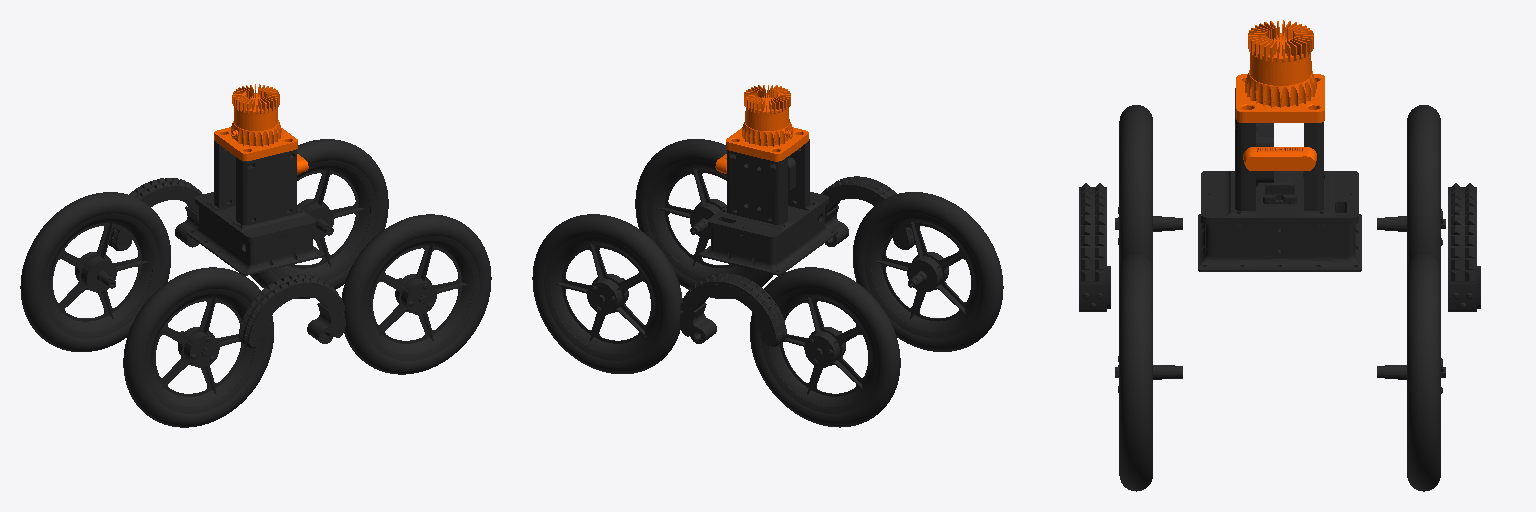
URDF robot description (espeleo):
<?xml version="1.0" ?>

<robot name="espeleo" xmlns:xacro="http://www.ros.org/wiki/xacro">


  <material name="black">
    <color rgba="0.0 0.0 0.0 1.0"/>
  </material>
  <material name="blue">
    <color rgba="0.0 0.0 0.8 1.0"/>
  </material>
  <material name="green">
    <color rgba="0.0 0.8 0.0 1.0"/>
  </material>
  <material name="grey">
    <color rgba="0.2 0.2 0.2 1.0"/>
  </material>
  <material name="orange">
    <color rgba="1.0 0.423529411765 0.0392156862745 1.0"/>
  </material>
  <material name="brown">
    <color rgba="0.870588235294 0.811764705882 0.764705882353 1.0"/>
  </material>
  <material name="red">
    <color rgba="0.8 0.0 0.0 1.0"/>
  </material>
  <material name="white">
    <color rgba="1.0 1.0 1.0 1.0"/>
  </material>


  <link name="base_link"/>
  <joint name="base_joint" type="fixed">
    <axis xyz="0 0 0"/>
    <origin rpy="0 0 0" xyz="0 0 .15 "/>
    <parent link="base_link"/>
    <child link="chassis"/>
  </joint>


  <link name="chassis">
    <collision>
      <origin rpy="0 0 0" xyz="0 0 0"/>
      <geometry>
        <box size="0.54 0.27 0.145"/>
      </geometry>
    </collision>
    <visual>
      <origin rpy="-1.57079632679 0 0" xyz="-0.283 -0.23 0.0725"/>
      <geometry>
        <mesh filename="package://espeleo_description/urdf/stl/Espeleo-22.STL" scale="0.001 0.001 0.001"/>
      </geometry>
      <material name="white"/>
    </visual>
    <inertial>
      <origin rpy="0 0 0" xyz="0 0 0.15"/>
      <mass value="0.5"/>
      <inertia ixx="0.01215" ixy="0" ixz="0" iyy="0.0030375" iyz="0" izz="0.0151875"/>
    </inertial>
  </link>



  <link name="left_front_wheel">
    <collision>
      <origin rpy="1.57079632679 0 0" xyz="0 0 0"/>
      <geometry>
        <cylinder length="0.043" radius="0.14"/>
      </geometry>
    </collision>
    <visual>
      <origin rpy="0 0 0" xyz="0 0 0"/>
      <geometry>
        <mesh filename="package://espeleo_description/urdf/stl/roda_esquerda.stl"/>
      </geometry>
      <material name="grey"/>
    </visual>
    <inertial>
      <origin rpy="1.57079632679 0 0 " xyz="0 0 0"/>
      <mass value="0.2"/>
      <inertia ixx="0.00101081666667" ixy="0" ixz="0" iyy="0.00101081666667" iyz="0" izz="0.00196"/>
    </inertial>
  </link>
  
  <joint name="left_front_wheel_joint" type="revolute">
    <parent link="chassis"/>
    <child link="left_front_wheel"/>
    <origin rpy="0 0 0" xyz="0.215 0.175 -0.01"/>
    <axis rpy="0 0 0" xyz="0 1 0"/>
    <limit command_effort="100" current="10" effort="80" gear_velocity="10" lower="-9.42" upper="9.42" velocity="15"/>   
    <joint_properties damping="0.0" friction="0.0"/>
  </joint>
  <transmission name="left_front_trans">
    <type>transmission_interface/SimpleTransmission</type>
    <joint name="left_front_wheel_joint">
      <hardwareInterface>EffortJointInterface</hardwareInterface>
    </joint>
    <actuator name="left_frontMotor">
      <hardwareInterface>EffortJointInterface</hardwareInterface>
      <mechanicalReduction>10</mechanicalReduction>
    </actuator>
  </transmission>


  <link name="left_middle_wheel">
    <collision>
      <origin rpy="3.1415 0 0" xyz="-0.05 0.02 0.02"/>
      <geometry>
        <mesh filename="package://espeleo_description/urdf/stl/leg_2.STL" scale="0.001 0.001 0.001"/>
        <!--<cylinder length="${wheelWidth}" radius="${wheelRadius}"/>-->
      </geometry>
    </collision>
    <visual>
      <origin rpy="3.1415 0 0" xyz="-0.05 0.02 0.02"/>
      <geometry>
        <mesh filename="package://espeleo_description/urdf/stl/leg_2.STL" scale="0.001 0.001 0.001"/>
      </geometry>
      <material name="grey"/>
    </visual>
    <inertial>
      <origin rpy="0 0 0" xyz="0 0 0"/>
      <mass value="0.2"/>
      <inertia ixx="0.00101081666667" ixy="0" ixz="0" iyy="0.00101081666667" iyz="0" izz="0.00196"/>
    </inertial>
  </link>
  
  <joint name="left_middle_wheel_joint" type="revolute">
    <parent link="chassis"/>
    <child link="left_middle_wheel"/>
    <origin rpy="3.1415 0 3.1415" xyz="0.0 0.225 -0.01"/>
    <axis rpy="0 0 0" xyz="0 1 0"/>
    <limit effort="100" lower="-3.14" upper="3.14" velocity="100"/>
    <joint_properties damping="0.0" friction="0.0"/>
  </joint>
  <transmission name="left_middle_trans">
    <type>transmission_interface/SimpleTransmission</type>
    <joint name="left_middle_wheel_joint">
      <hardwareInterface>EffortJointInterface</hardwareInterface>
    </joint>
    <actuator name="left_middleMotor">
      <hardwareInterface>EffortJointInterface</hardwareInterface>
      <mechanicalReduction>10</mechanicalReduction>
    </actuator>
  </transmission>



  <link name="left_back_wheel">
    <collision>
      <origin rpy="1.57079632679 0 0" xyz="0 0 0"/>
      <geometry>
        <cylinder length="0.043" radius="0.14"/>
      </geometry>
    </collision>
    <visual>
      <origin rpy="0 0 0" xyz="0 0 0"/>
      <geometry>
        <mesh filename="package://espeleo_description/urdf/stl/roda_esquerda.stl"/>
      </geometry>
      <material name="grey"/>
    </visual>
    <inertial>
      <origin rpy="1.57079632679 0 0 " xyz="0 0 0"/>
      <mass value="0.2"/>
      <inertia ixx="0.00101081666667" ixy="0" ixz="0" iyy="0.00101081666667" iyz="0" izz="0.00196"/>
    </inertial>
  </link>
  
  <joint name="left_back_wheel_joint" type="revolute">
    <parent link="chassis"/>
    <child link="left_back_wheel"/>
    <origin rpy="0 0 0" xyz="-0.212 0.175 -0.01"/>
    <axis rpy="0 0 0" xyz="0 1 0"/>
    <limit command_effort="100" current="10" effort="80" gear_velocity="10" lower="-9.42" upper="9.42" velocity="15"/> 
    <joint_properties damping="0.0" friction="0.0"/>
  </joint>
  <transmission name="left_back_trans">
    <type>transmission_interface/SimpleTransmission</type>
    <joint name="left_back_wheel_joint">
      <hardwareInterface>EffortJointInterface</hardwareInterface>
    </joint>
    <actuator name="left_backMotor">
      <hardwareInterface>EffortJointInterface</hardwareInterface>
      <mechanicalReduction>10</mechanicalReduction>
    </actuator>
  </transmission>


  <link name="right_front_wheel">
    <collision>
      <origin rpy="1.57079632679 0 0" xyz="0 0 0"/>
      <geometry>
        <cylinder length="0.043" radius="0.14"/>
      </geometry>
    </collision>
    <visual>
      <origin rpy="3.1415 0 3.14159265359" xyz="0 0 0"/>
      <geometry>
        <mesh filename="package://espeleo_description/urdf/stl/roda_esquerda.stl"/>
      </geometry>
      <material name="grey"/>
    </visual>
    <inertial>
      <origin rpy="1.57079632679 0 0 " xyz="0 0 0"/>
      <mass value="0.2"/>
      <inertia ixx="0.00101081666667" ixy="0" ixz="0" iyy="0.00101081666667" iyz="0" izz="0.00196"/>
    </inertial>
  </link>
  
  <joint name="right_front_wheel_joint" type="revolute">
    <parent link="chassis"/>
    <child link="right_front_wheel"/>
    <origin rpy="0 0 3.1415" xyz="0.215 -0.175 -0.01"/>
    <axis rpy="0 0 0" xyz="0 1 0"/>
    <limit command_effort="100" current="10" effort="80" gear_velocity="10" lower="-9.42" upper="9.42" velocity="15"/> 
    <joint_properties damping="0.0" friction="0.0"/>
  </joint>
  <transmission name="right_front_trans">
    <type>transmission_interface/SimpleTransmission</type>
    <joint name="right_front_wheel_joint">
      <hardwareInterface>EffortJointInterface</hardwareInterface>
    </joint>
    <actuator name="right_frontMotor">
      <hardwareInterface>EffortJointInterface</hardwareInterface>
      <mechanicalReduction>10</mechanicalReduction>
    </actuator>
  </transmission>
  
  <link name="right_middle_wheel">
    <collision>
      <origin rpy="0 0 0" xyz="-0.05 -0.02 -0.02"/>
      <geometry>
        <mesh filename="package://espeleo_description/urdf/stl/leg_2.STL" scale="0.001 0.001 0.001"/>
        <!--<cylinder length="${wheelWidth}" radius="${wheelRadius}"/>-->
      </geometry>
    </collision>
    <visual>
      <origin rpy="0 0 0" xyz="-0.05 -0.02 -0.02"/>
      <geometry>
        <mesh filename="package://espeleo_description/urdf/stl/leg_2.STL" scale="0.001 0.001 0.001"/>
      </geometry>
      <material name="grey"/>
    </visual>
    <inertial>
      <origin rpy="0 0 0" xyz="0 0 0"/>
      <mass value="0.2"/>
      <inertia ixx="0.00101081666667" ixy="0" ixz="0" iyy="0.00101081666667" iyz="0" izz="0.00196"/>
    </inertial>
  </link>

    <joint name="right_middle_wheel_joint" type="revolute">
    <parent link="chassis"/>
    <child link="right_middle_wheel"/>
    <origin rpy="0 0 3.1415" xyz="0.0 -0.225 -0.01"/>
    <axis rpy="0 0 0" xyz="0 1 0"/>
    <limit effort="100" lower="-3.14" upper="3.14" velocity="100"/>
    <joint_properties damping="0.0" friction="0.0"/>
  </joint>
  <transmission name="right_middle_trans">
    <type>transmission_interface/SimpleTransmission</type>
    <joint name="right_middle_wheel_joint">
      <hardwareInterface>EffortJointInterface</hardwareInterface>
    </joint>
    <actuator name="right_middleMotor">
      <hardwareInterface>EffortJointInterface</hardwareInterface>
      <mechanicalReduction>10</mechanicalReduction>
    </actuator>
  </transmission>



  <link name="right_back_wheel">
    <collision>
      <origin rpy="1.57079632679 0 0" xyz="0 0 0"/>
      <geometry>
        <cylinder length="0.043" radius="0.14"/>
      </geometry>
    </collision>
    <visual>
      <origin rpy="3.1415 0 3.14159265359" xyz="0 0 0"/>
      <geometry>
        <mesh filename="package://espeleo_description/urdf/stl/roda_esquerda.stl"/>
      </geometry>
      <material name="grey"/>
    </visual>
    <inertial>
      <origin rpy="1.57079632679 0 0 " xyz="0 0 0"/>
      <mass value="0.2"/>
      <inertia ixx="0.00101081666667" ixy="0" ixz="0" iyy="0.00101081666667" iyz="0" izz="0.00196"/>
    </inertial>
  </link>
  
  <joint name="right_back_wheel_joint" type="revolute">
    <parent link="chassis"/>
    <child link="right_back_wheel"/>
    <origin rpy="0 0 3.1415" xyz="-0.212 -0.175 -0.01"/>
    <axis rpy="0 0 0" xyz="0 1 0"/>
    <limit command_effort="100" current="10" effort="80" gear_velocity="10" lower="-9.42" upper="9.42" velocity="15"/> 
    <joint_properties damping="0.0" friction="0.0"/>
  </joint>
  <transmission name="right_back_trans">
    <type>transmission_interface/SimpleTransmission</type>
    <joint name="right_back_wheel_joint">
      <hardwareInterface>EffortJointInterface</hardwareInterface>
    </joint>
    <actuator name="right_backMotor">
      <hardwareInterface>EffortJointInterface</hardwareInterface>
      <mechanicalReduction>10</mechanicalReduction>
    </actuator>
  </transmission>

  <!-- sensor_tower -->
  <joint name="sensor_tower_joint" type="fixed">
    <axis xyz="0 1 0"/>
    <origin rpy="0 0 0" xyz=".0 .0 .055 "/>
    <parent link="chassis"/>
    <child link="sensor_tower"/>
  </joint>
  <link name="sensor_tower">
    <collision>
      <origin rpy="0 0 0" xyz="0 0 0.109"/>
      <geometry>
        <box size="0.19 0.19 0.18"/>
      </geometry>
    </collision>
    <visual>
      <origin rpy="1.57079632679 0 0" xyz="-0.08 0.2 0"/>
      <geometry>
        <mesh filename="package://espeleo_description/urdf/stl/Torre.STL" scale="0.001 0.001 0.001"/>
      </geometry>
    <material name="grey"/>
    </visual>
    <inertial>
      <mass value="2"/>
      <origin rpy="0 0 0" xyz="0 0 0"/>
      <inertia ixx="1e-6" ixy="0" ixz="0" iyy="1e-6" iyz="0" izz="1e-6"/>
    </inertial>
  </link>

  <!-- Caso necessite utilizar a TF da IMU na torre altere o parent link para (<parent link="chassis"/>) e utilize as seguintes coordenadas de origin (<origin rpy="0 0 0" xyz="-0.025 -0.015 .087"/>) -->

  <!-- Imu --> 
  <joint name="imu_joint" type="fixed">
    <axis xyz="0 1 0"/>
    <origin rpy="0 0 0" xyz="0.1275 -0.0175 0.0445"/> 
    <parent link="chassis"/>
    <child link="imu_link"/>
  </joint>
  <link name="imu_link"/>

  <!-- Laser Lidar -->
  <joint name="laser_joint" type="fixed">
    <axis xyz="0 0 0"/>
    <origin rpy="0 0 0" xyz="0 0 .205 "/>
    <parent link="sensor_tower"/>
    <child link="os1_sensor"/>
  </joint>
  <link name="os1_sensor">
    <collision>
      <origin rpy="0 0 0" xyz="0 0 0.045"/>
      <geometry>
        <box size="0.13 0.13 0.095"/>
      </geometry>
    </collision>
    <visual>
      <origin rpy="1.57079632679 0 1.57079632679" xyz="-0.09 -0.054 -0.01"/>
      <geometry>
        <mesh filename="package://espeleo_description/urdf/stl/Lidar.STL" scale="0.001 0.001 0.001"/>
      </geometry>
    <material name="orange"/>
    </visual>
  </link>


  <!-- Camera T265  Nao se utiliza esta TF este link foi criado apenas com finalidade de visualizacao-->
  <joint name="realsense_t265_joint" type="fixed">
    <axis xyz="0 0 0"/>
    <origin rpy="-1.57 3.1415 1.57" xyz="0.06 0 .18 "/>
    <parent link="sensor_tower"/>
    <child link="only_visual_t265"/>
  </joint>
  <link name="only_visual_t265">
    <collision>
      <origin rpy="0 0 0" xyz="0 0 0"/>
      <geometry>
        <box size="0 0 0"/>
      </geometry>
    </collision>
    <visual>
      <origin rpy="0 3.1415 0" xyz="0.05 -0.012 0.004"/>
      <geometry>
        <mesh filename="package://espeleo_description/urdf/stl/realsense_t265.STL" scale="0.001 0.001 0.001"/>
      </geometry>
    <material name="orange"/>
    </visual>
  </link>


  <!-- Camera D435i -->
  <joint name="realsense_d435_joint" type="fixed">
    <axis xyz="0 0 0"/>
     <origin rpy="-1.57 0 -1.57" xyz="0.06 0 .152 "/> 
    <parent link="sensor_tower"/>
    <child link="d435i_link"/>
  </joint>
  <link name="d435i_link">
    <collision>
      <origin rpy="0 0 3.14" xyz="0.01 0 0"/>
      <geometry>
        <box size="0 0 0"/>
      </geometry>
    </collision>
    <visual>
      <origin rpy="0 0 0" xyz="-0.045 -0.0125 -0.005"/>
      <geometry>
        <mesh filename="package://espeleo_description/urdf/stl/realsense_d435.STL" scale="0.001 0.001 0.001"/>
      </geometry>
      <material name="orange"/>
    </visual>
  </link>

  <!-- Camera D435i simulada -->
  <joint name="realsense_d435_sim_joint" type="fixed">
    <axis xyz="0 0 0"/>
     <origin rpy="0 0 3.1415" xyz="0 0 0"/> 
    <parent link="d435i_link"/>
    <child link="d435i_sim_link"/>
  </joint>
  <link name="d435i_sim_link">
  </link>

<!-- Gazebo -->

  <gazebo reference="base_link">
    <material>Gazebo/White</material>
  </gazebo>
  <gazebo>
    <plugin filename="libgazebo_ros_control.so" name="gazebo_ros_control">
      <robotNamespace>/espeleo</robotNamespace>
    </plugin>
  </gazebo>

  <gazebo>
    <plugin filename="libdiffdrive_plugin_multi_wheel.so" name="diffdrive_plugin_multiwheel">
      <alwaysOn>true</alwaysOn>
      <updateRate>100.0</updateRate>
      <leftJoints>left_front_wheel_joint left_middle_wheel_joint left_back_wheel_joint</leftJoints>
      <rightJoints>right_front_wheel_joint right_middle_wheel_joint right_back_wheel_joint</rightJoints>
      <!-- <wheelSeparation>${chassisWidth+wheelWidth}</wheelSeparation> THis is the right one, but the robot takes too much time to turn -->
      <wheelSeparation>1</wheelSeparation>
      <wheelDiameter>0.28</wheelDiameter>
      <torque>1000000</torque>
      <position name="position_iface_2"/>
      <robotBaseFrame>robot_footprint</robotBaseFrame>
      <commandTopic>/cmd_vel</commandTopic>
      <publishOdometryTf>1</publishOdometryTf>
      <publishOdometryMsg>1</publishOdometryMsg>
    </plugin>
  </gazebo>
  <gazebo reference="camera">
    <material>Gazebo/Green</material>
    <sensor name="camera1" type="camera">
      <update_rate>30.0</update_rate>
      <camera name="head">
        <horizontal_fov>1.3962634</horizontal_fov>
        <image>
          <width>800</width>
          <height>800</height>
          <format>R8G8B8</format>
        </image>
        <clip>
          <near>0.02</near>
          <far>300</far>
        </clip>
      </camera>
      <plugin filename="libgazebo_ros_camera.so" name="camera_controller">
        <alwaysOn>true</alwaysOn>
        <updateRate>0.0</updateRate>
        <cameraName>espeleo/camera1</cameraName>
        <imageTopicName>image_raw</imageTopicName>
        <cameraInfoTopicName>camera_info</cameraInfoTopicName>
        <frameName>camera</frameName>
        <hackBaseline>0.07</hackBaseline>
        <distortionK1>0.0</distortionK1>
        <distortionK2>0.0</distortionK2>
        <distortionK3>0.0</distortionK3>
        <distortionT1>0.0</distortionT1>
        <distortionT2>0.0</distortionT2>
      </plugin>
    </sensor>
  </gazebo>

  <!-- hokuyo -->
  <gazebo reference="hokuyo">
    <sensor name="head_hokuyo_sensor" type="ray">
      <pose>0 0 0 0 0 0</pose>
      <visualize>false</visualize>
      <update_rate>40</update_rate>
      <ray>
        <scan>
          <horizontal>
            <samples>720</samples>
            <resolution>1</resolution>
            <min_angle>-1.570796</min_angle>
            <max_angle>1.570796</max_angle>
          </horizontal>
        </scan>
        <range>
          <min>0.20</min>
          <max>30.0</max>
          <resolution>0.01</resolution>
        </range>
        <noise>
          <type>gaussian</type>
          <!-- Noise parameters based on published spec for Hokuyo laser

               achieving "+-30mm" accuracy at range < 10m.  A mean of 0.0m and

               stddev of 0.01m will put 99.7% of samples within 0.03m of the true

               reading. -->
          <mean>0.0</mean>
          <stddev>0.01</stddev>
        </noise>
      </ray>
      <plugin filename="libgazebo_ros_laser.so" name="gazebo_ros_head_hokuyo_controller">
        <topicName>/espeleo/laser/scan</topicName>
        <frameName>hokuyo</frameName>
      </plugin>
    </sensor>
  </gazebo>

<gazebo reference="left_front_wheel">
    <mu1 value="1"/>
    <mu2 value="1"/>
    <kp value="1000000.0"/>
    <kd value="10.0"/>
    <fdir1 value="0 0 1"/>
    <minDepth>0.001</minDepth>
    <maxContacts>1</maxContacts>
    <!--maxVel>1.0</maxVel-->
    <material>Gazebo/Red</material>
  </gazebo>

<gazebo reference="left_middle_wheel">
    <mu1 value="1"/>
    <mu2 value="1"/>
    <kp value="1000000.0"/>
    <kd value="10.0"/>
    <fdir1 value="0 0 1"/>
    <minDepth>0.001</minDepth>
    <maxContacts>1</maxContacts>
    <!--maxVel>1.0</maxVel-->
    <material>Gazebo/Red</material>
</gazebo>

<gazebo reference="left_back_wheel">
    <mu1 value="1"/>
    <mu2 value="1"/>
    <kp value="1000000.0"/>
    <kd value="10.0"/>
    <fdir1 value="0 0 1"/>
    <minDepth>0.001</minDepth>
    <maxContacts>1</maxContacts>
    <!--maxVel>1.0</maxVel-->
    <material>Gazebo/Red</material>
  </gazebo>


<gazebo reference="right_front_wheel">
    <mu1 value="1"/>
    <mu2 value="1"/>
    <kp value="1000000.0"/>
    <kd value="10.0"/>
    <fdir1 value="0 0 1"/>
    <minDepth>0.001</minDepth>
    <maxContacts>1</maxContacts>
    <!--maxVel>1.0</maxVel-->
    <material>Gazebo/Red</material>
</gazebo>

  <gazebo reference="right_middle_wheel">
    <mu1 value="1"/>
    <mu2 value="1"/>
    <kp value="1000000.0"/>
    <kd value="10.0"/>
    <fdir1 value="0 0 1"/>
    <minDepth>0.001</minDepth>
    <maxContacts>1</maxContacts>
    <!--maxVel>1.0</maxVel-->
    <material>Gazebo/Red</material>
  </gazebo>

<gazebo reference="right_back_wheel">
    <mu1 value="1"/>
    <mu2 value="1"/>
    <kp value="1000000.0"/>
    <kd value="10.0"/>
    <fdir1 value="0 0 1"/>
    <minDepth>0.001</minDepth>
    <maxContacts>1</maxContacts>
    <!--maxVel>1.0</maxVel-->
    <material>Gazebo/Red</material>
  </gazebo>
</robot>

--- What the picture shows (computed from the rendered views, not written in the file) ---
Views: 3 orthographic renders of the robot side by side, from view 1: azimuth 30°, elevation 25°; view 2: azimuth 150°, elevation 25°; view 3: azimuth 270°, elevation 25°.
Robot: espeleo — 14 links, 13 joints (6 revolute, 7 fixed); root link base_link; default pose: all joints at 0.
Links seen in each view (by area): view 1: right_front_wheel, left_back_wheel, right_back_wheel, sensor_tower, left_front_wheel, right_middle_wheel, os1_sensor, left_middle_wheel; view 2: left_front_wheel, right_back_wheel, left_back_wheel, sensor_tower, right_front_wheel, left_middle_wheel, os1_sensor, right_middle_wheel; view 3: sensor_tower, left_front_wheel, right_front_wheel, os1_sensor, left_back_wheel, right_back_wheel, left_middle_wheel, right_middle_wheel, d435i_link.
Boxes of the visible links, box(x1,y1,x2,y2) form: right_front_wheel: box(342, 214, 491, 374); left_back_wheel: box(20, 192, 170, 351); right_back_wheel: box(123, 267, 273, 427); sensor_tower: box(187, 140, 324, 275); left_front_wheel: box(250, 139, 388, 298); right_middle_wheel: box(239, 274, 345, 347); os1_sensor: box(214, 84, 297, 160); left_middle_wheel: box(108, 178, 202, 250); left_front_wheel: box(532, 214, 682, 373); right_back_wheel: box(853, 192, 1003, 351); left_back_wheel: box(750, 267, 900, 427); sensor_tower: box(699, 139, 837, 275); right_front_wheel: box(635, 139, 772, 298); left_middle_wheel: box(680, 273, 786, 346); os1_sensor: box(726, 85, 808, 161); right_middle_wheel: box(821, 176, 915, 249); sensor_tower: box(1198, 88, 1361, 271); left_front_wheel: box(1377, 253, 1445, 491); right_front_wheel: box(1115, 253, 1182, 491); os1_sensor: box(1236, 20, 1324, 122); left_back_wheel: box(1377, 105, 1445, 266); right_back_wheel: box(1115, 105, 1182, 269); left_middle_wheel: box(1448, 183, 1480, 311); right_middle_wheel: box(1079, 183, 1110, 311); d435i_link: box(1243, 147, 1316, 170).
Bounding box of the posed robot: 0.717 × 0.49 × 0.4995 m (x, y, z).
9 mesh visuals loaded from 7 distinct referenced files (5 binary STL); not drawn: 2 (reference not matched to a file when rendering).
